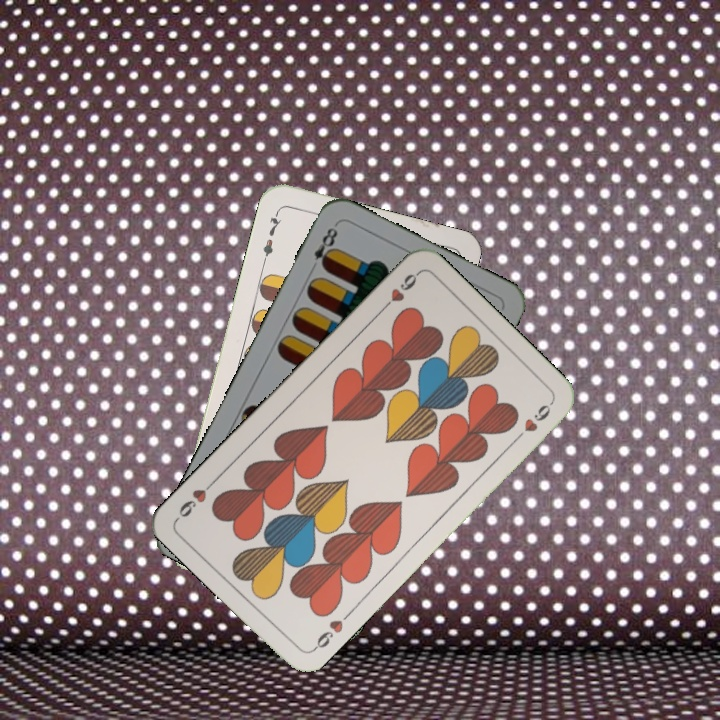E7: (258, 207, 285, 265)
E8: (306, 220, 341, 274)
H9: (376, 268, 422, 315), (308, 616, 346, 654)
